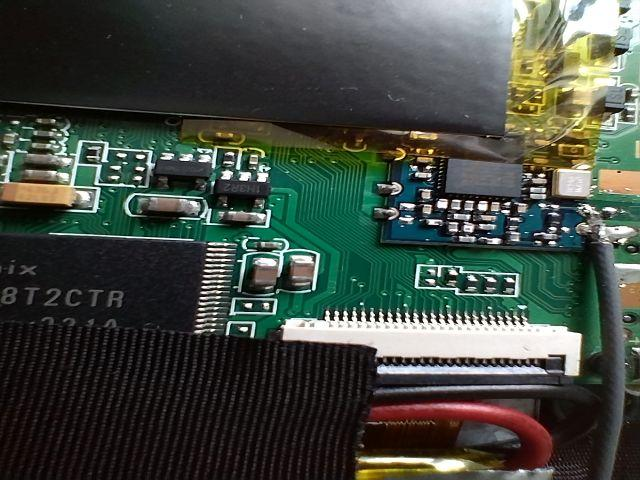capacitor: (139, 188, 206, 230), (249, 254, 292, 292), (286, 254, 324, 297)
resistor: (86, 135, 106, 169)
